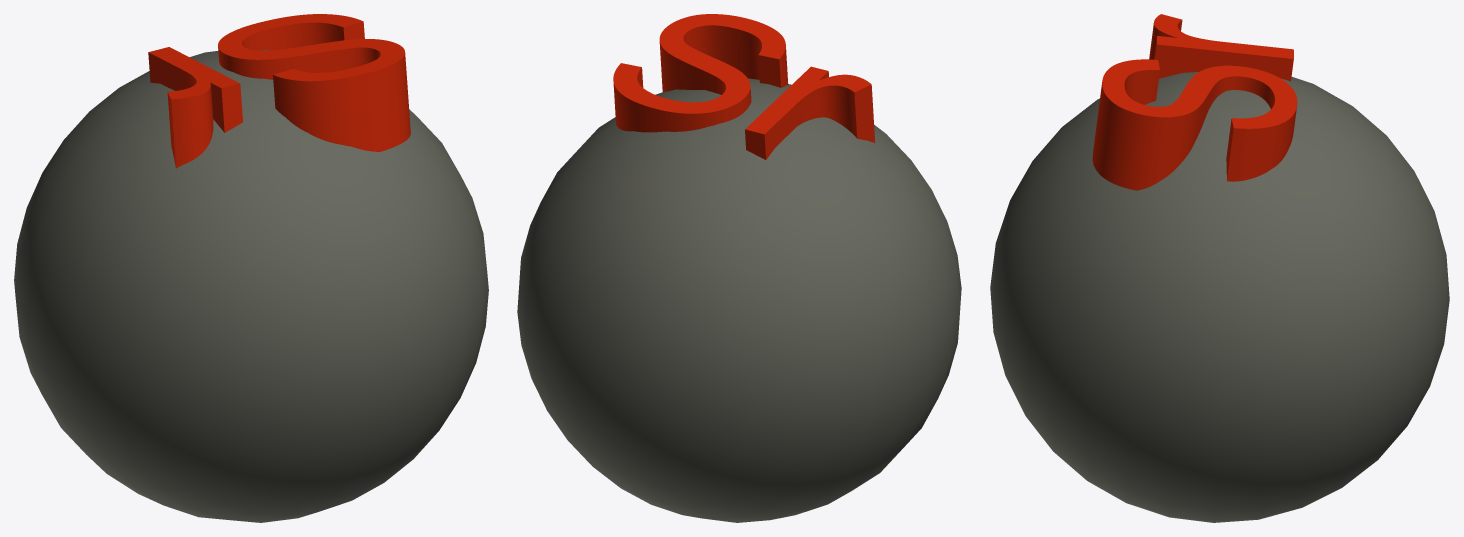
3 views of the same model, side by side, from view 1: azimuth 30°, elevation 25°; view 2: azimuth 150°, elevation 25°; view 3: azimuth 270°, elevation 25° (orthographic). The views are drawn at different scales.
Parts seen in each view (by area): view 1: Sr; view 2: Sr; view 3: Sr.
Boxes of the visible parts, bbox=[...] form: Sr: bbox=[14, 14, 488, 522]; Sr: bbox=[517, 14, 961, 522]; Sr: bbox=[990, 14, 1449, 522].
Bounding box in the file's own units: 38.75 × 41.24 × 38.73.
